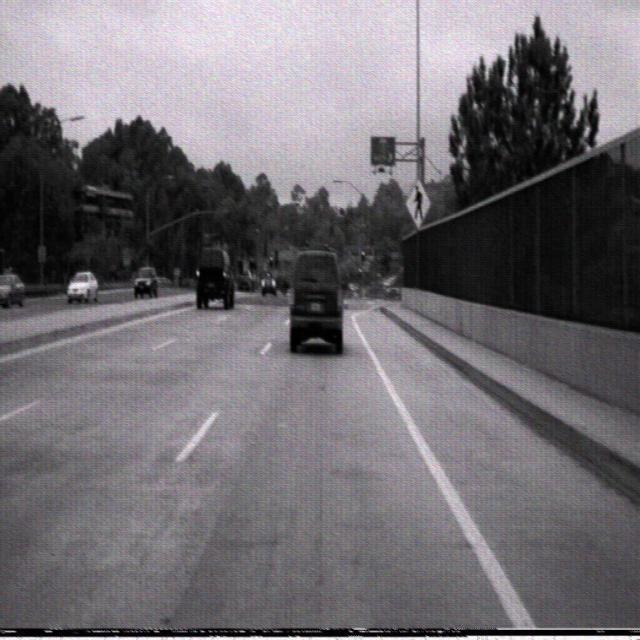pedestrianCrossing: (404, 174, 430, 229)
